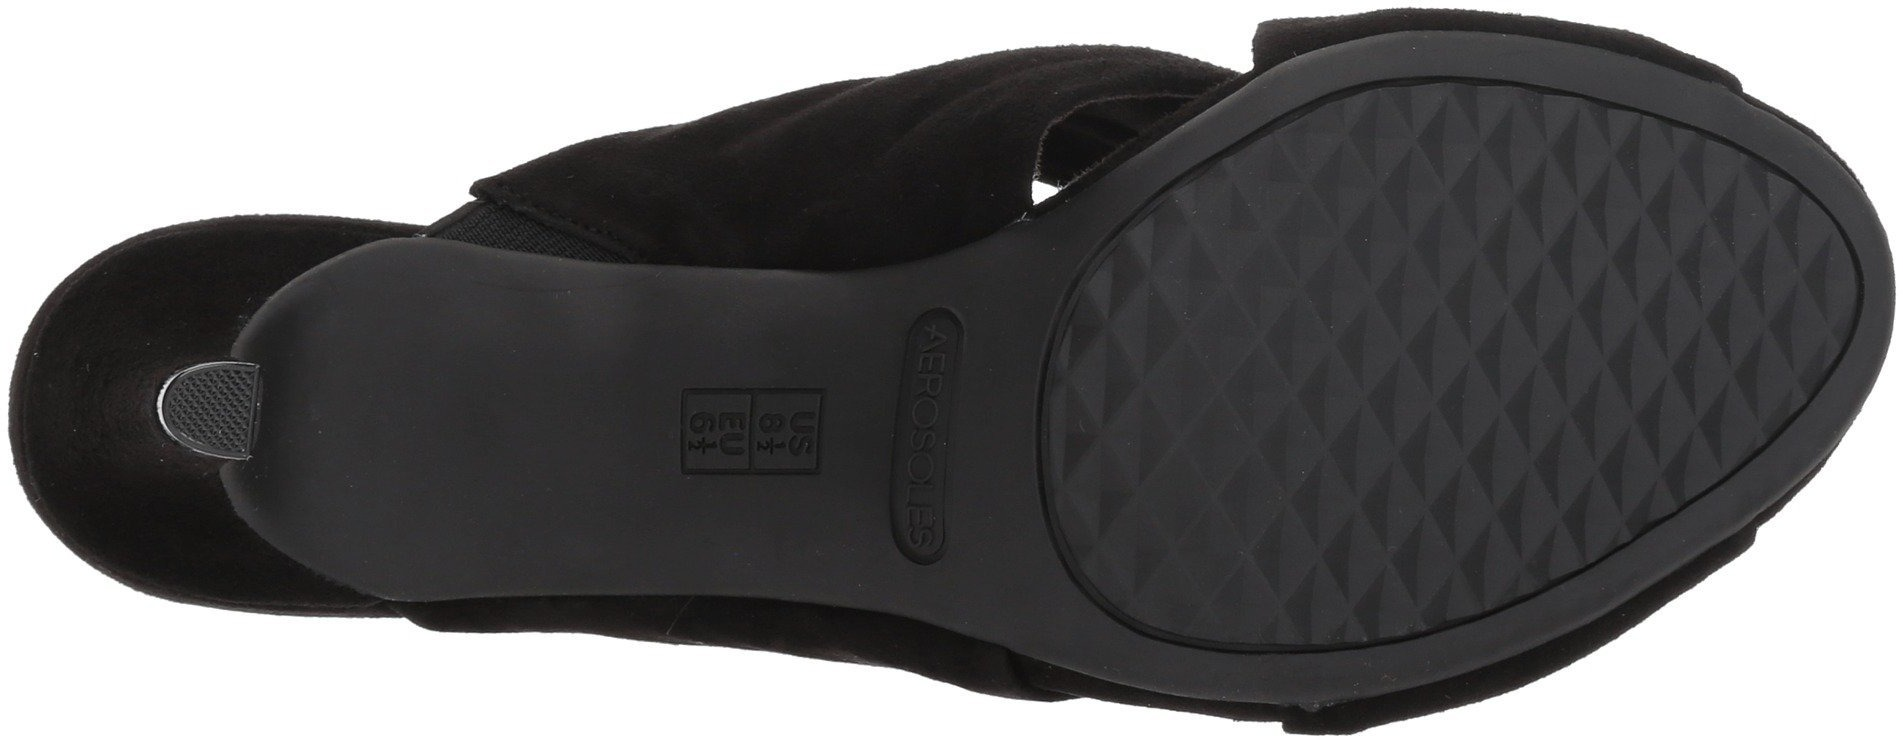exclude: (206, 172, 693, 649)
other: (177, 371, 259, 446)
quad: (1151, 260, 1472, 546), (1486, 156, 1753, 429)
text: (694, 368, 813, 517), (880, 423, 981, 522), (882, 328, 971, 423)
